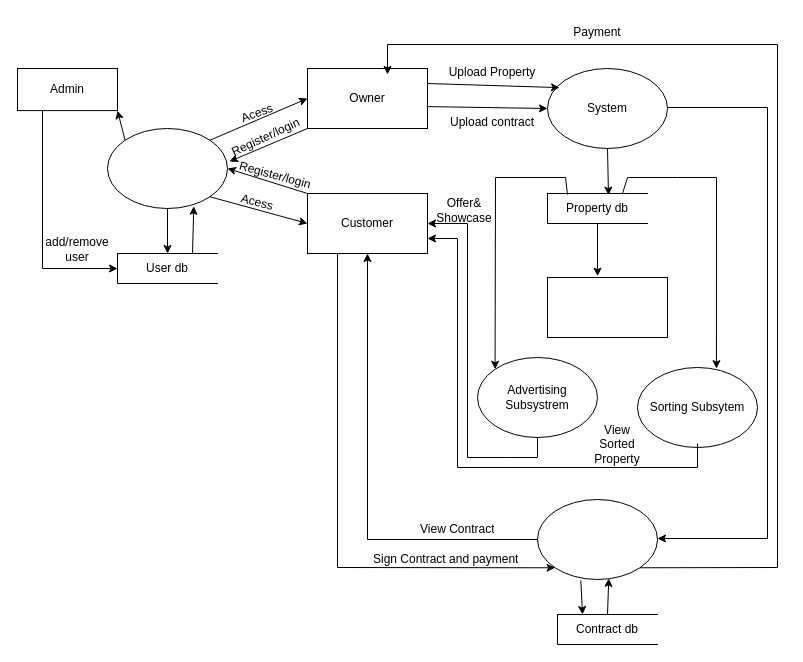
The diagram is 803 pixels wide and 662 high, and some of its shapes have lost their labels. The centre of each missing label's shape, as x and y in pixels:
"Authentication Subsystem" goes at (x=167, y=168).
"Contract and payment management sub sytem" goes at (x=597, y=539).
"Property Management" goes at (x=607, y=307).
